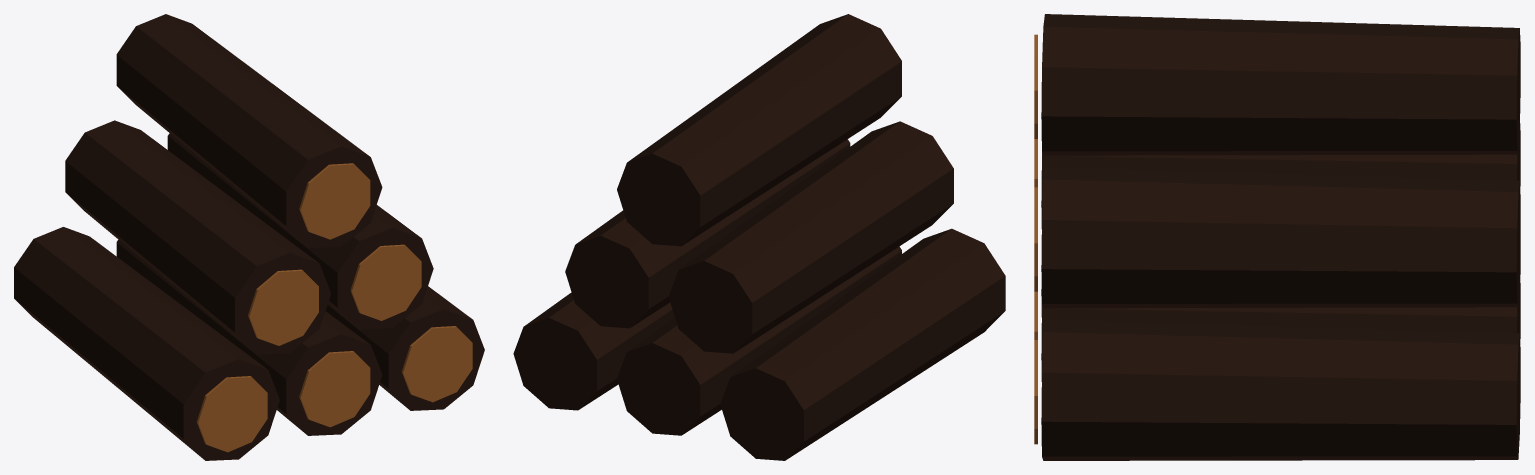
The model's file is Lenha_empilhada_LOD0.fbx.
3 renders of one model, left to right at view 1: azimuth 30°, elevation 25°; view 2: azimuth 150°, elevation 25°; view 3: azimuth 270°, elevation 25°, orthographic. The views are drawn at different scales.
Visible parts, largest first — view 1: Lenha_empilhada_LOD0; view 2: Lenha_empilhada_LOD0; view 3: Lenha_empilhada_LOD0.
Part boxes in pixels (x1,y1,x2,y2): Lenha_empilhada_LOD0: (14, 14, 484, 460); Lenha_empilhada_LOD0: (513, 14, 1005, 460); Lenha_empilhada_LOD0: (1034, 14, 1520, 460).
Bounding box in the file's own units: 119 × 107 × 128.
1 material, 1 textured.
